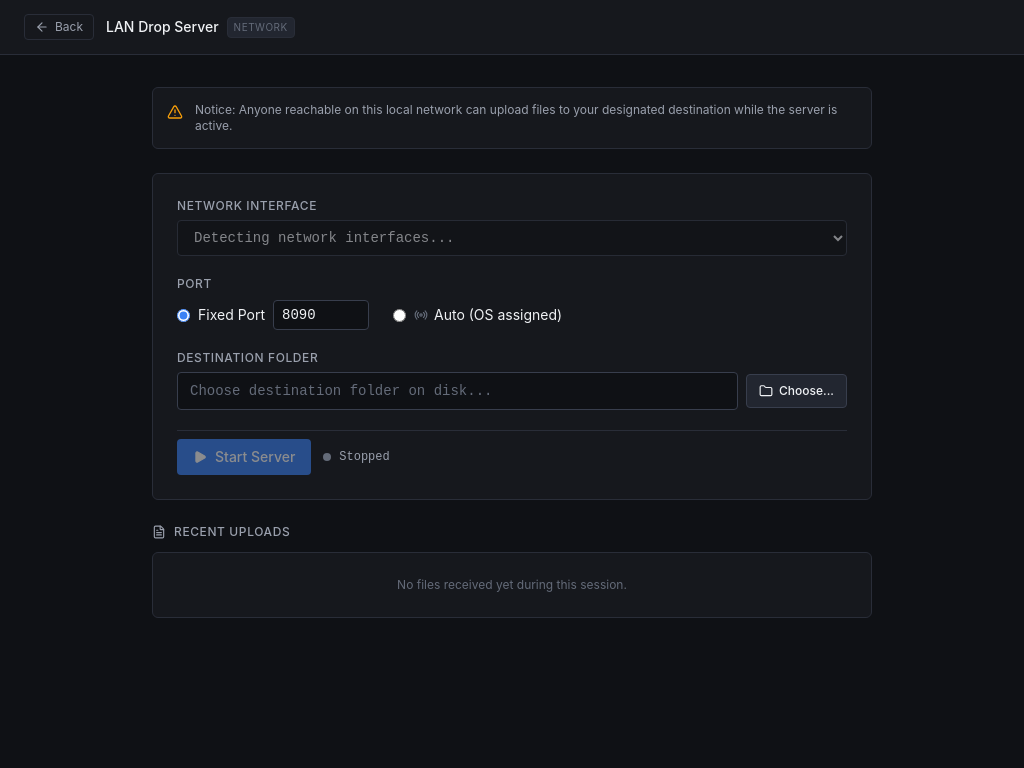
Scenario: DropServerPage › surfaces server start error in alert banner
Expected: the text "stopped" is shown, [339,449,390,465]
Click the button with aria-label "choose destination folder" at (796, 391), box [746,374,847,408]
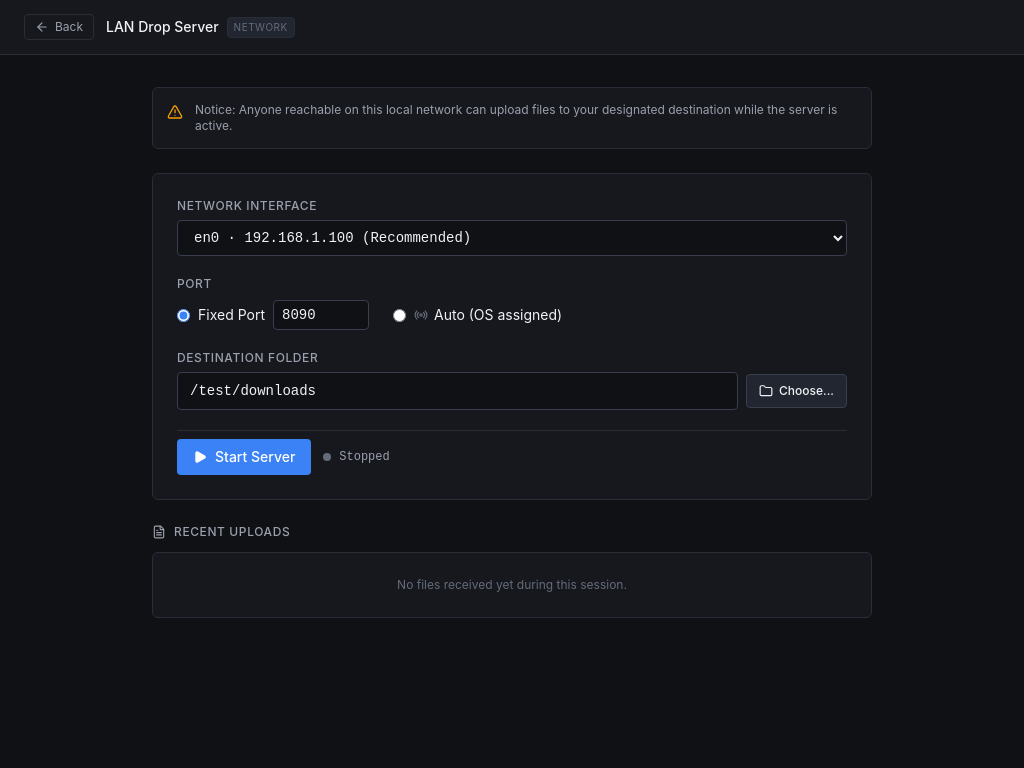
Result: the button "Start Server" is enabled
Click the button "Start Server" at (244, 457), box [177,439,311,475]
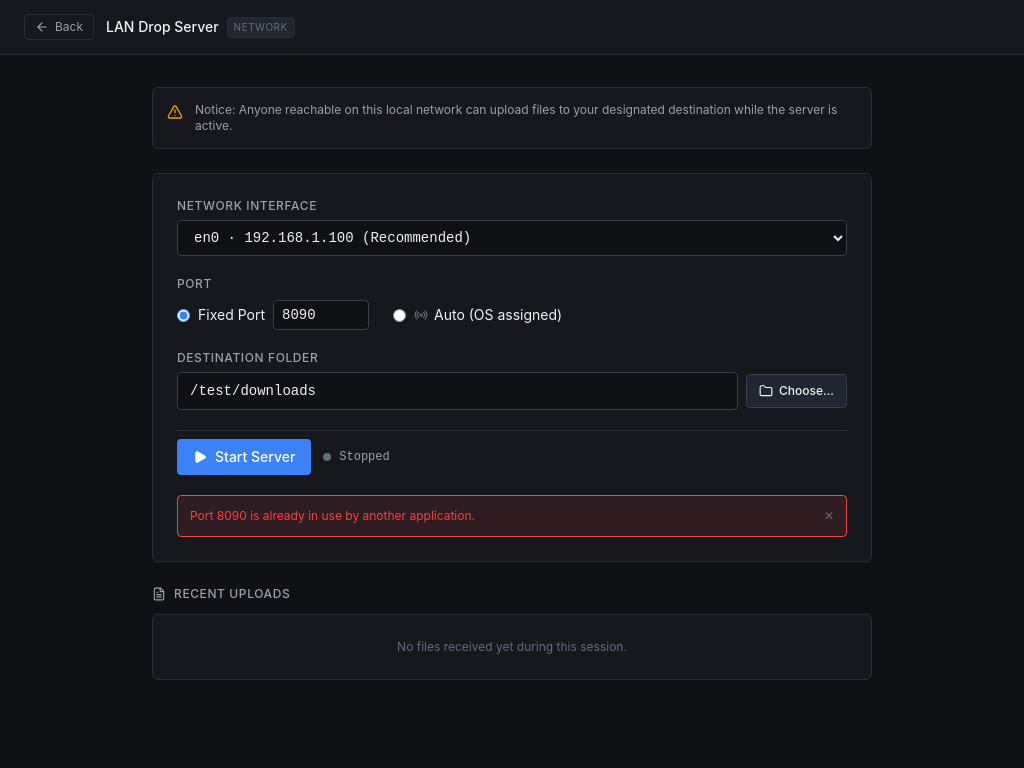
Result: the text "Port 8090 is already in use by another application." is shown at [190,508,475,524]
